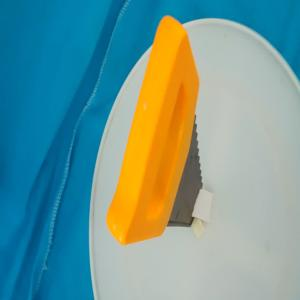serrote: (105, 13, 204, 247)
